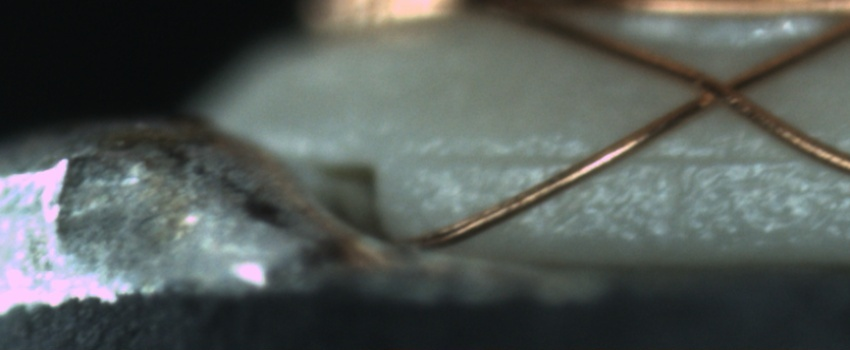CL: (686, 62, 764, 118)
DL: (396, 128, 850, 197)
